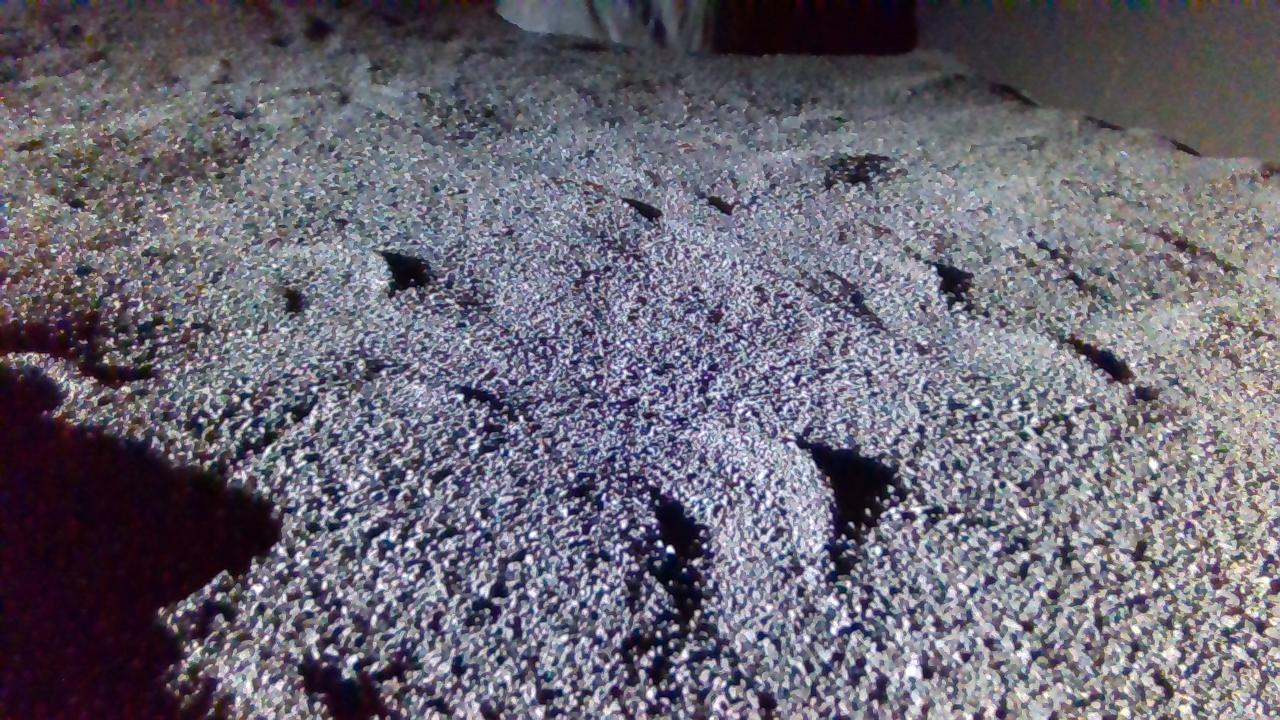rock: (497, 0, 711, 50)
